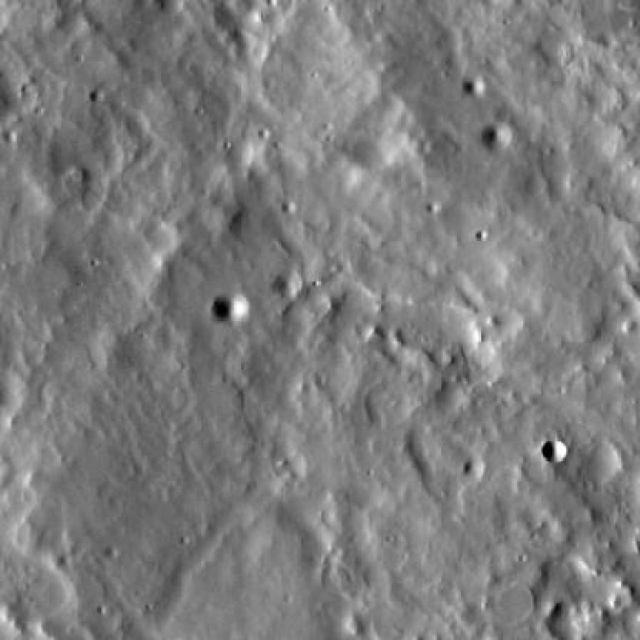crater: (372, 383, 418, 426), (210, 286, 250, 323), (276, 270, 307, 299), (484, 127, 510, 151), (462, 75, 488, 98), (543, 437, 568, 460), (283, 198, 300, 213)
